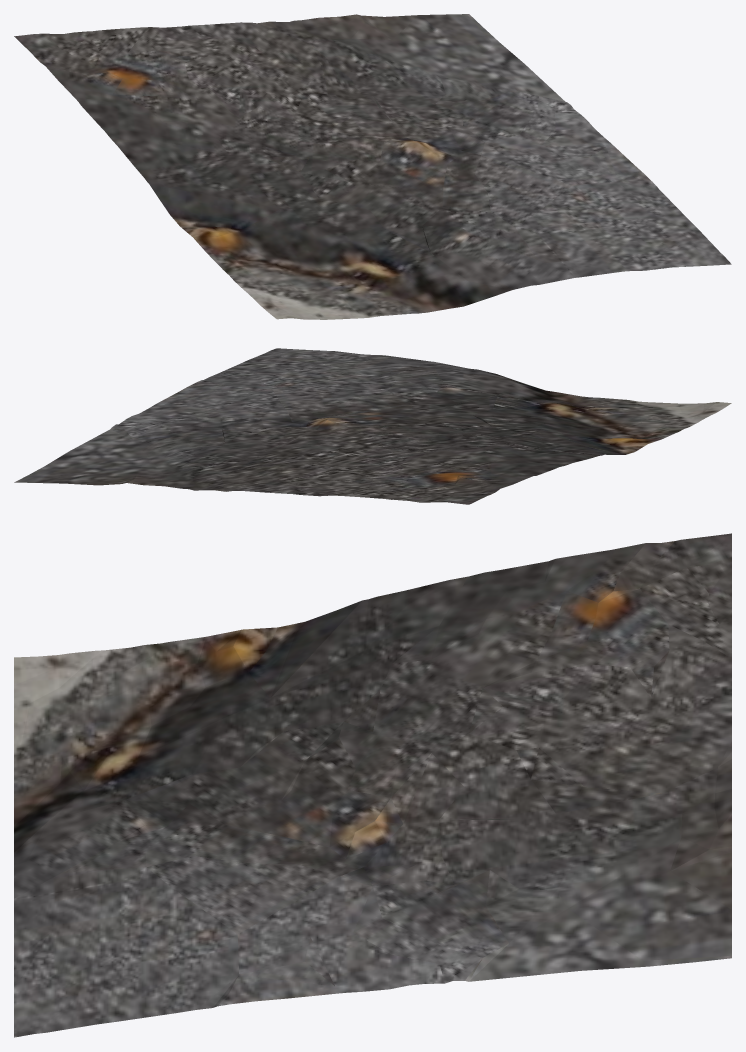
3 renders of one model, top to bottom at view 1: azimuth 30°, elevation 25°; view 2: azimuth 150°, elevation 25°; view 3: azimuth 270°, elevation 25°, orthographic. The views are drawn at different scales.
Bounding box in the file's own units: 0.8373 × 0.2584 × 0.8374.
3 materials, 3 textured.
